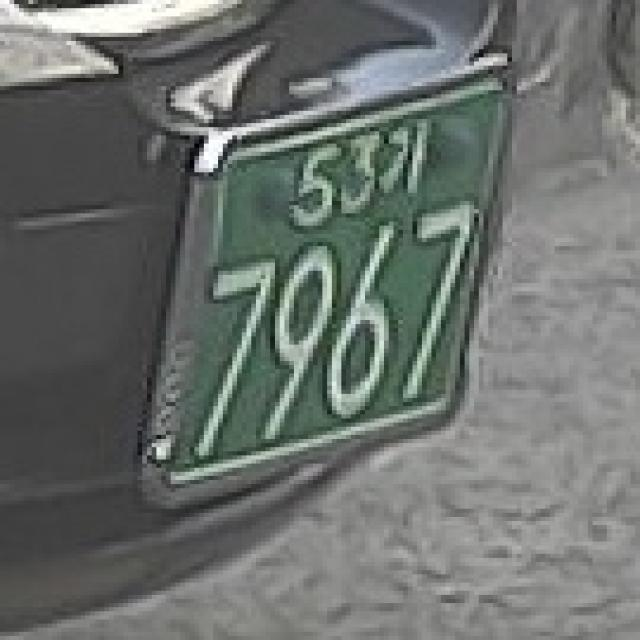3: (346, 127, 384, 218)
5: (285, 131, 346, 234)
6: (322, 209, 418, 423)
7: (388, 193, 484, 410), (194, 254, 275, 468)
9: (266, 234, 342, 443)
ga: (374, 119, 426, 197)
license_plate: (142, 70, 507, 504)
